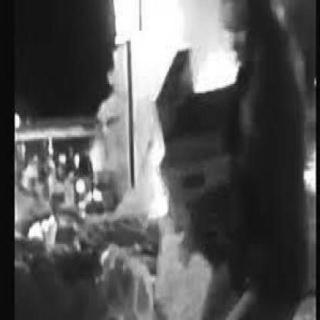Fire: (69, 122, 115, 214)
